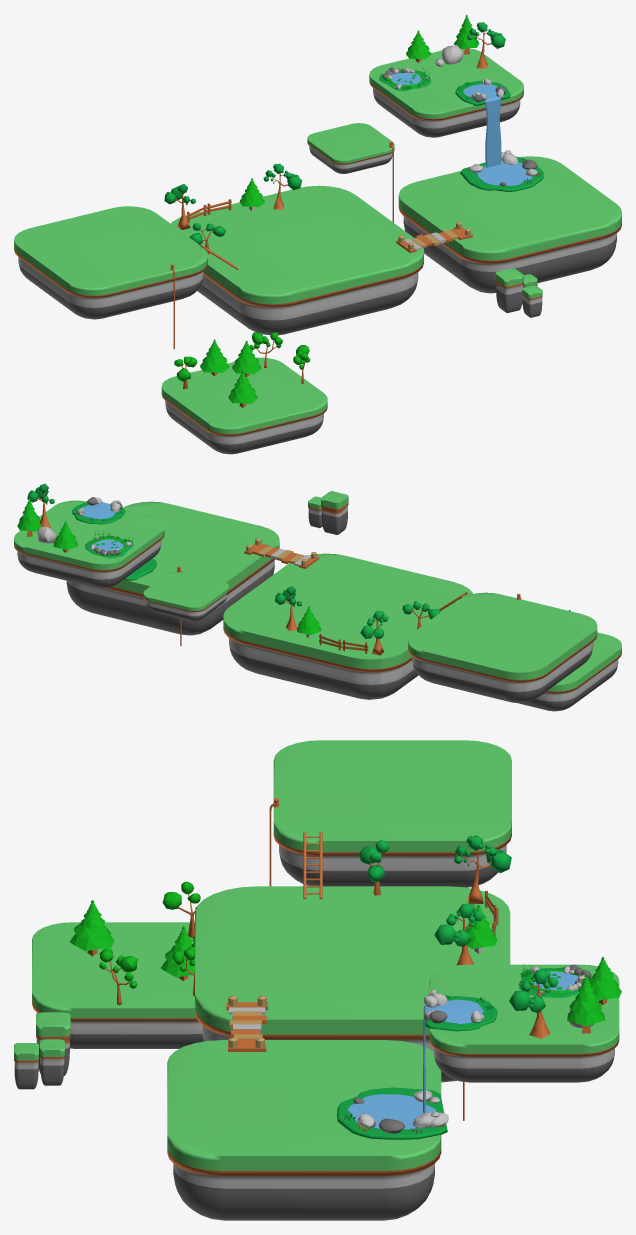
Rendered from map.fbx.
The picture shows the model from 3 angles, top to bottom: view 1: azimuth 30°, elevation 25°; view 2: azimuth 150°, elevation 25°; view 3: azimuth 270°, elevation 25°; orthographic projection. The views are drawn at different scales.
Parts seen in each view (by area): view 1: Island1, Island4, Island3, Island2, Island5, Island6, Circle1, Circle, Island, Bridge, LP_Pond, Icosphere2 (+3 smaller); view 2: Island1, Island3, Island4, Island5, Island6, Island2, Circle, Island, Bridge, PineTree (×2), LP_Pond, Icosphere1 (+5 smaller); view 3: Island4, Island1, Island3, Island2, Island5, Circle1, Circle, PineTree (×3), Bridge, Tree (×2), LP_Pond, Icosphere2 (+9 smaller).
Part boxes in pixels (bbox=[...]): Island1: bbox=[171, 185, 423, 335]; Island4: bbox=[398, 156, 621, 293]; Island3: bbox=[14, 206, 207, 319]; Island2: bbox=[161, 357, 327, 454]; Island5: bbox=[369, 48, 523, 137]; Island6: bbox=[307, 123, 394, 173]; Circle1: bbox=[460, 150, 543, 191]; Circle: bbox=[455, 79, 510, 167]; Island: bbox=[495, 268, 523, 313]; Bridge: bbox=[396, 222, 472, 252]; LP_Pond: bbox=[379, 67, 431, 91]; Icosphere2: bbox=[467, 22, 505, 68]; Island1: bbox=[223, 553, 472, 699]; Island3: bbox=[408, 592, 597, 703]; Island4: bbox=[66, 501, 279, 635]; Island5: bbox=[14, 500, 164, 588]; Island6: bbox=[143, 571, 228, 621]; Island2: bbox=[519, 632, 621, 711]; Circle: bbox=[72, 497, 125, 524]; Island: bbox=[321, 491, 348, 534]; Bridge: bbox=[244, 538, 319, 568]; PineTree (×2): bbox=[53, 521, 321, 637]; LP_Pond: bbox=[85, 531, 133, 558]; Icosphere1: bbox=[360, 610, 388, 655]; Island4: bbox=[167, 1040, 441, 1220]; Island1: bbox=[195, 886, 510, 1082]; Island3: bbox=[273, 740, 511, 887]; Island2: bbox=[32, 922, 203, 1048]; Island5: bbox=[429, 964, 619, 1082]; Circle1: bbox=[337, 1087, 448, 1139]; Circle: bbox=[423, 989, 497, 1113]; PineTree (×3): bbox=[160, 904, 621, 1004]; Bridge: bbox=[226, 995, 267, 1051]; Tree (×2): bbox=[162, 840, 389, 938]; LP_Pond: bbox=[519, 963, 591, 997]; Icosphere2: bbox=[509, 969, 558, 1038].
Bounding box in the file's own units: 965 × 383 × 655.
